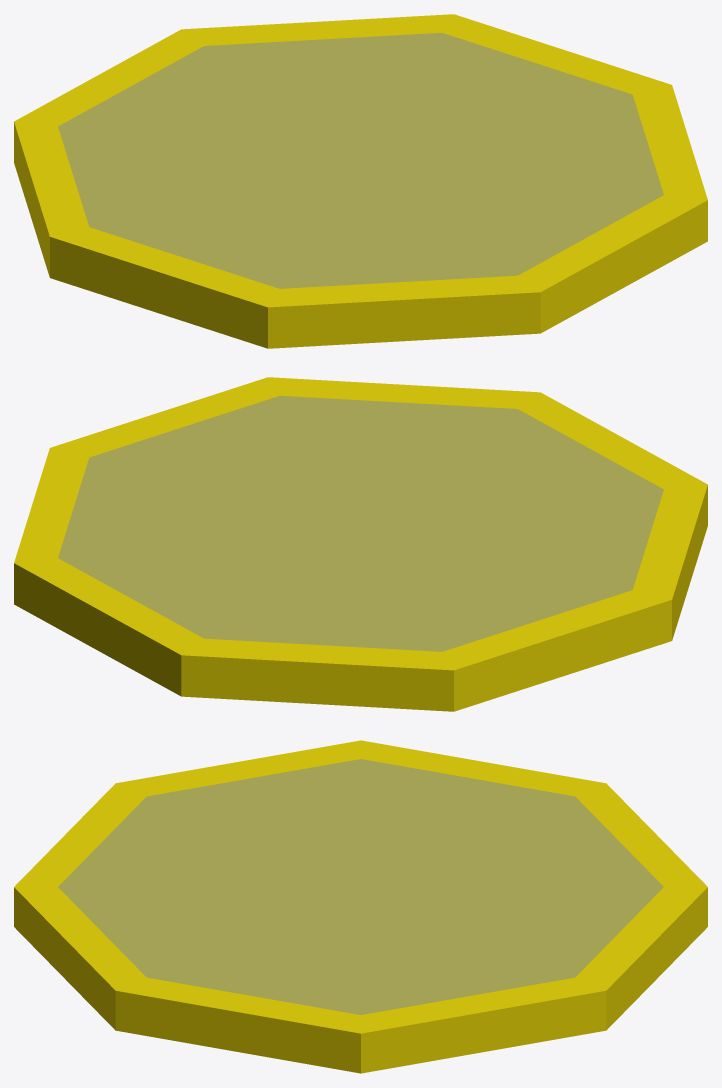
Rendered from FruitSlice.fbx.
3 views of the same model, one above another, from view 1: azimuth 30°, elevation 25°; view 2: azimuth 150°, elevation 25°; view 3: azimuth 270°, elevation 25° (orthographic). The views are drawn at different scales.
Parts seen in each view (by area): view 1: FruitSlice; view 2: FruitSlice; view 3: FruitSlice.
Part boxes in pixels (<box>): FruitSlice: <box>14,14,707,348</box>; FruitSlice: <box>14,377,707,711</box>; FruitSlice: <box>14,740,707,1073</box>.
Bounding box in the file's own units: 11.96 × 0.759 × 11.96.
